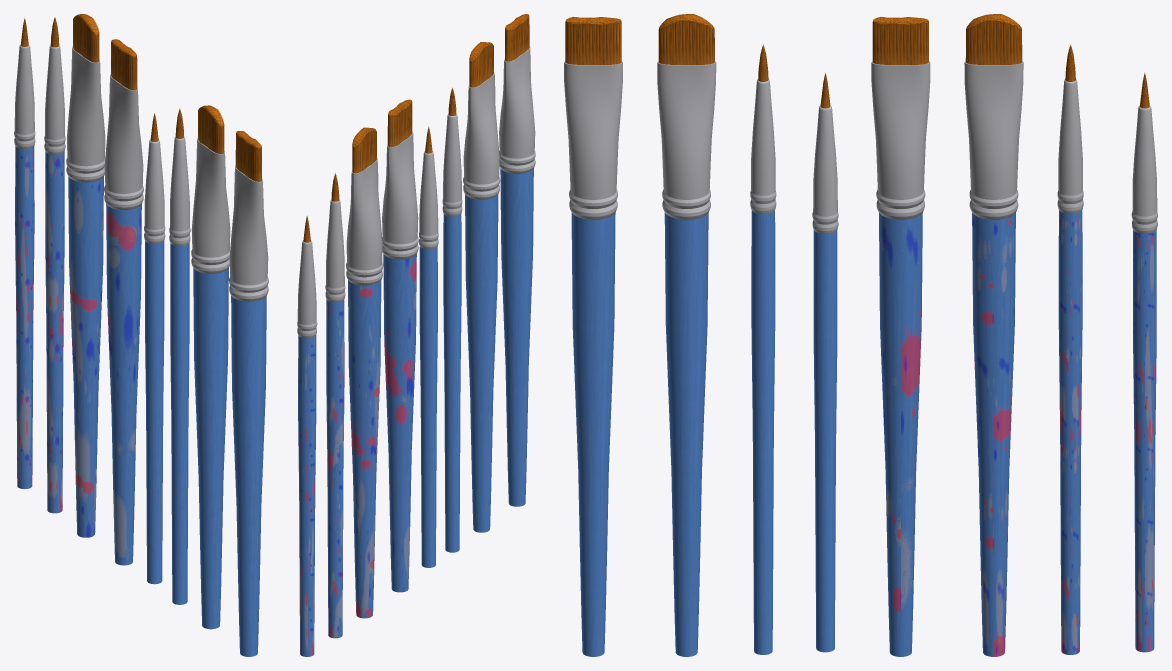
The model's file is paint_brushes.glb.
3 views of the same model, side by side, from view 1: azimuth 30°, elevation 25°; view 2: azimuth 150°, elevation 25°; view 3: azimuth 270°, elevation 25° (orthographic). The views are drawn at different scales.
Visible parts, largest first — view 1: FlatStained, Flat, Filbert, FilbertStained, Round, RoundStained, Liner, LinerStained; view 2: FlatStained, Flat, Filbert, FilbertStained, Round, RoundStained, Liner, LinerStained; view 3: FlatStained, Flat, FilbertStained, Filbert, Round, RoundStained, Liner, LinerStained.
Part boxes in pixels (x1,y1,x2,y2): FlatStained: (104,39,143,565); Flat: (229,131,268,656); Filbert: (191,105,230,629); FilbertStained: (66,14,105,537); Round: (169,108,190,604); RoundStained: (44,17,65,513); Liner: (144,113,165,584); LinerStained: (14,18,35,488); FlatStained: (382,99,418,592); Flat: (499,14,535,506); Filbert: (463,42,500,532); FilbertStained: (346,127,383,618); Round: (442,87,462,552); RoundStained: (325,173,345,638); Liner: (419,126,438,567); LinerStained: (297,215,317,656); FlatStained: (871,17,930,656); Flat: (564,16,622,656); FilbertStained: (964,14,1023,656); Filbert: (657,14,716,656); Round: (750,44,776,654); RoundStained: (1057,44,1083,654); Liner: (812,72,838,652); LinerStained: (1131,72,1157,652).
Bounding box in the file's own units: 1.66 × 23.78 × 20.12.
5 materials, 5 textured.
